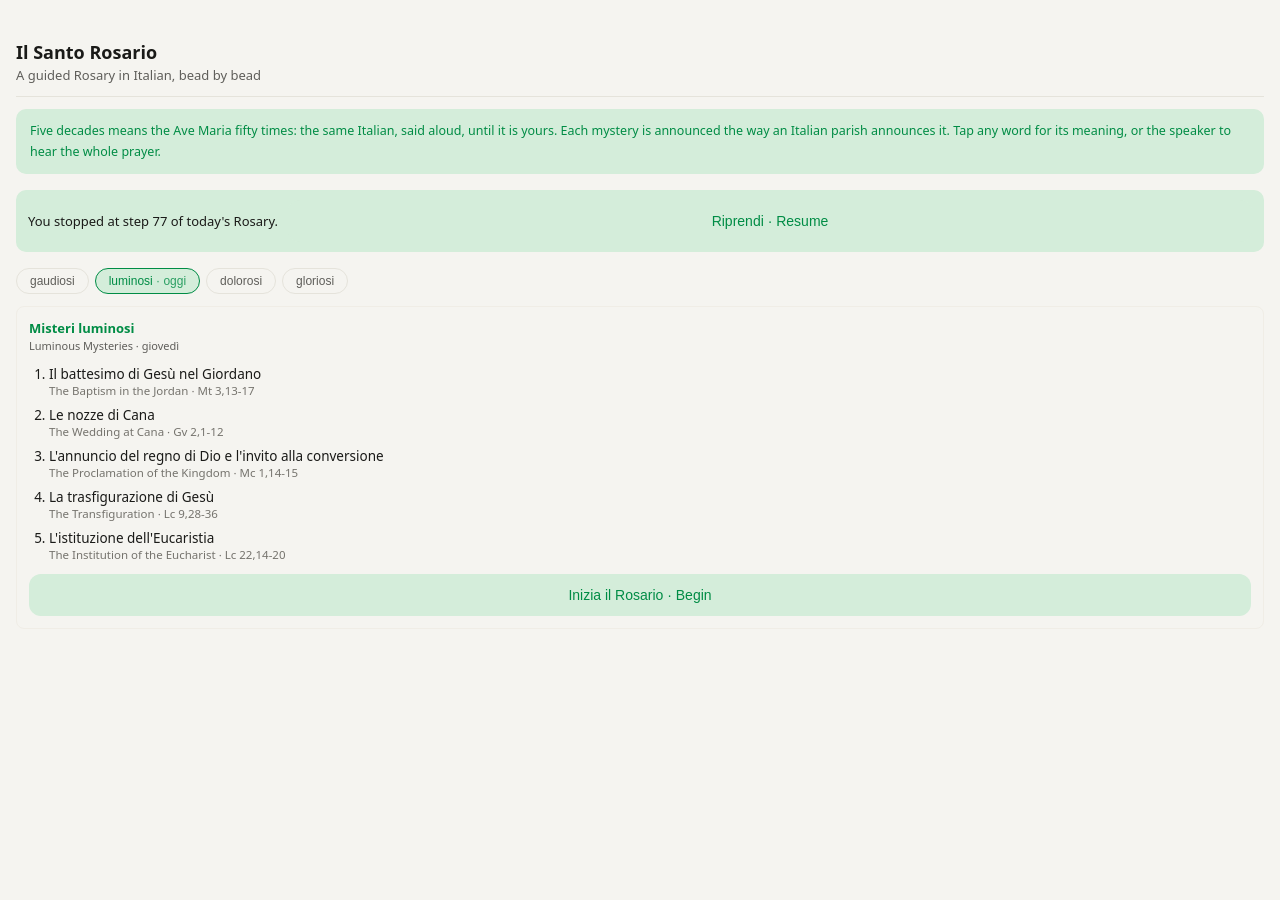
Test: RosaryTab › counts a finished Rosary and ticks the practiced goal
Step 1. Click the button "Riprendi · Resume" → (770, 221), box x1=288 y1=200 x2=1252 y2=242
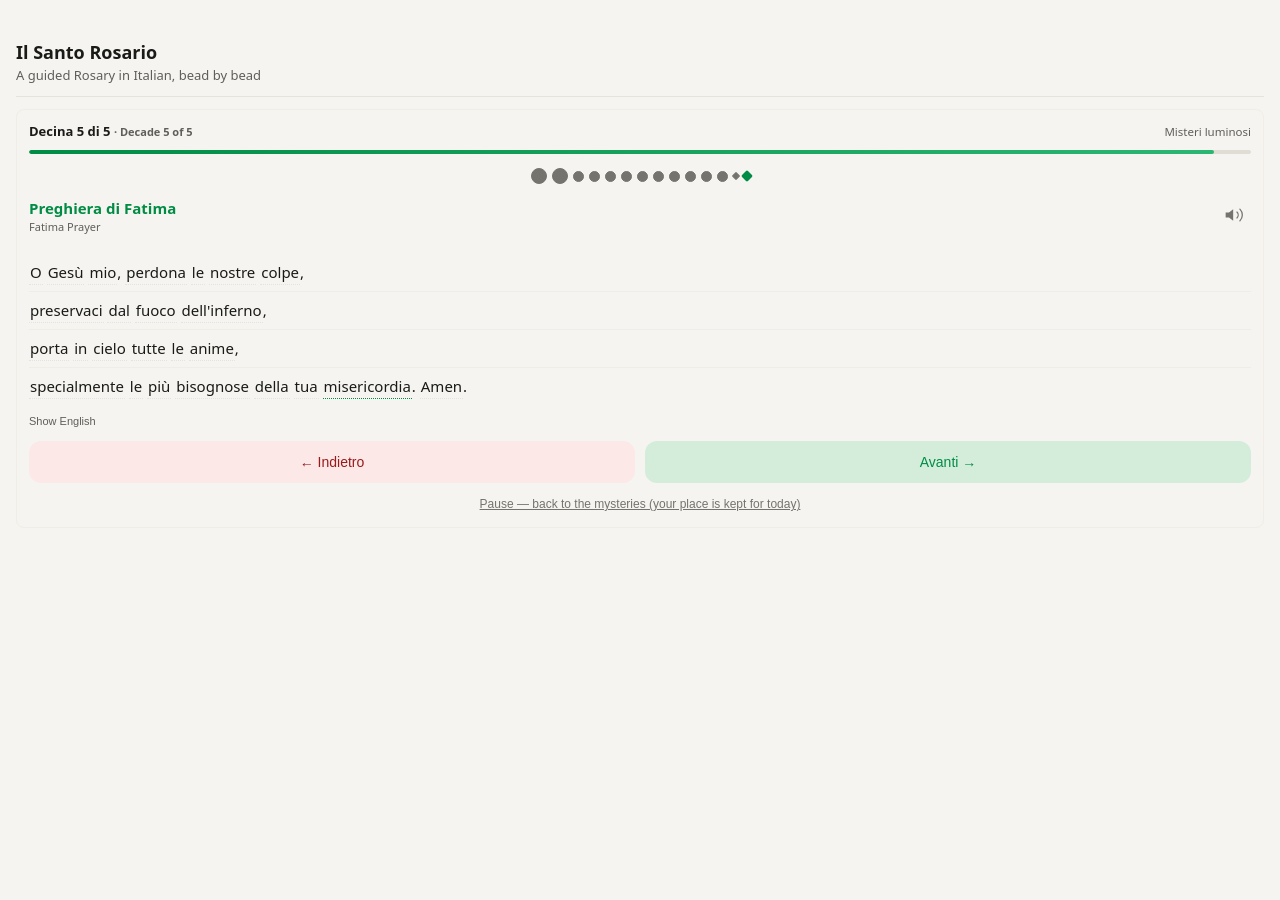
Check: the text "Preghiera di Fatima" is shown, box x1=29 y1=198 x2=176 y2=218
Step 2. Click the button "Avanti →" → (948, 462), box x1=645 y1=441 x2=1251 y2=483
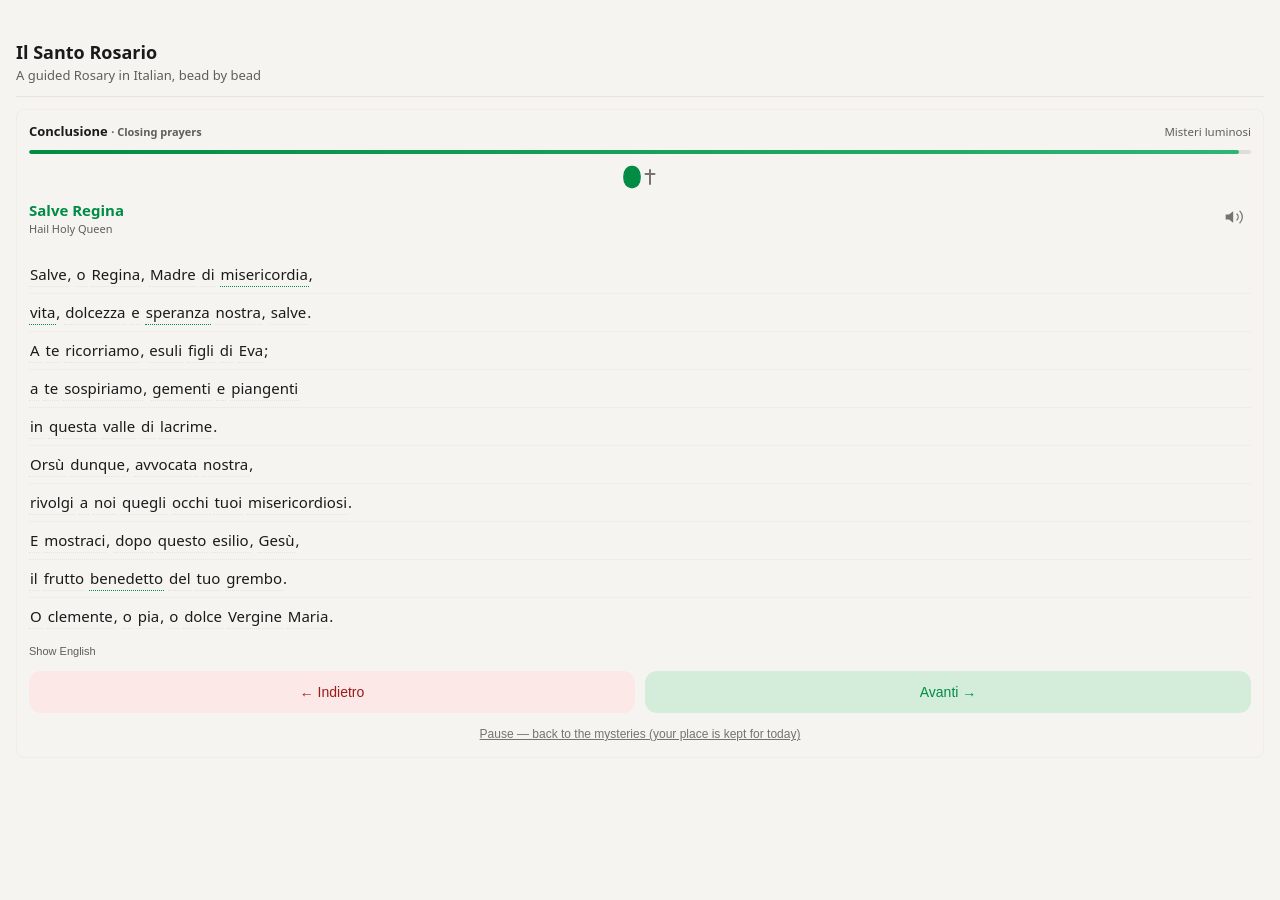
Step 3. Click the button "Avanti →" → (948, 692), box x1=645 y1=671 x2=1251 y2=713
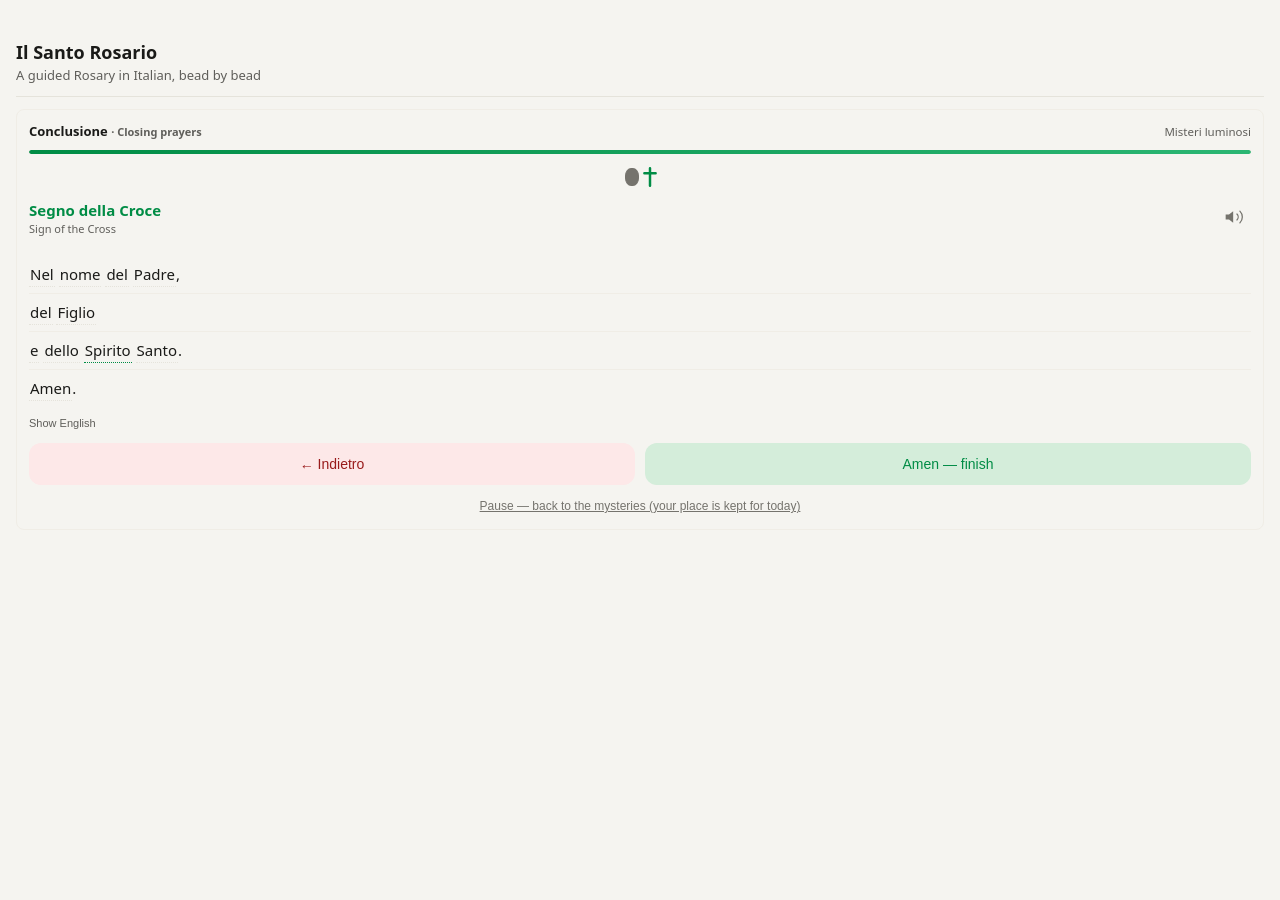
Step 4. Click the button "Amen — finish" → (948, 464), box x1=645 y1=443 x2=1251 y2=485
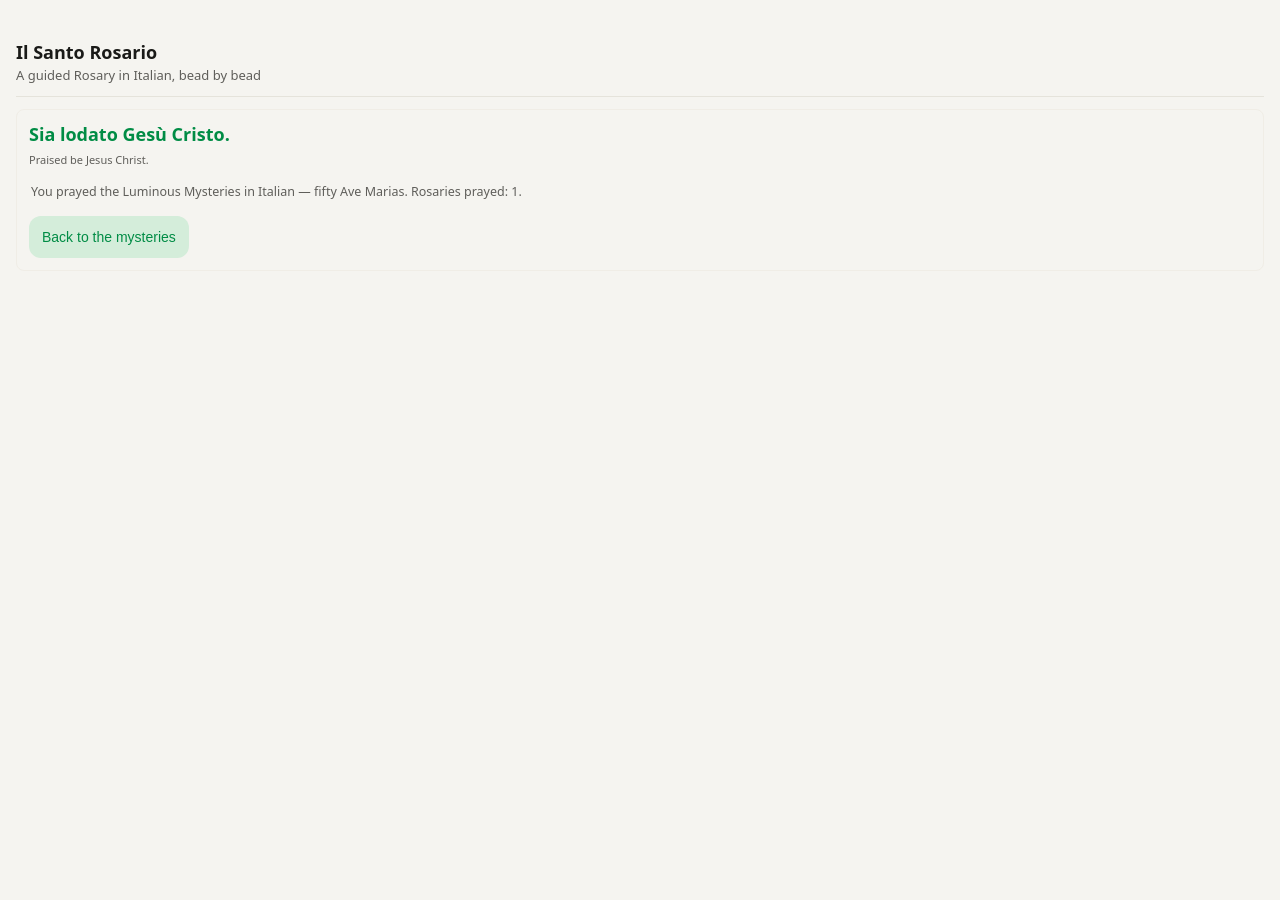
Check: the text "Sia lodato Gesù Cristo." is shown, box x1=29 y1=122 x2=230 y2=146
